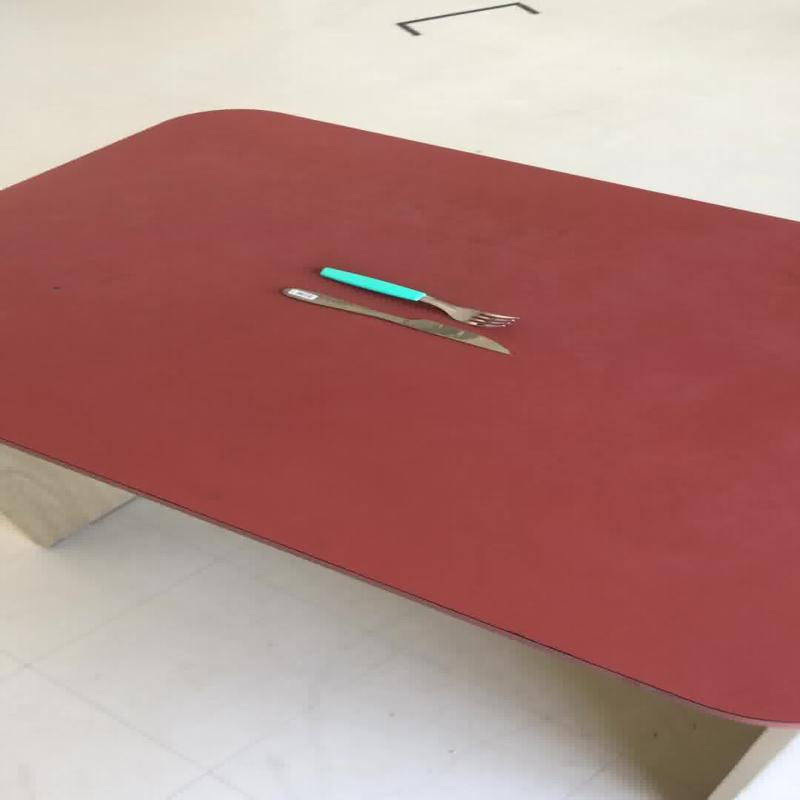fork: (317, 264, 519, 328)
knife: (276, 285, 511, 355)
